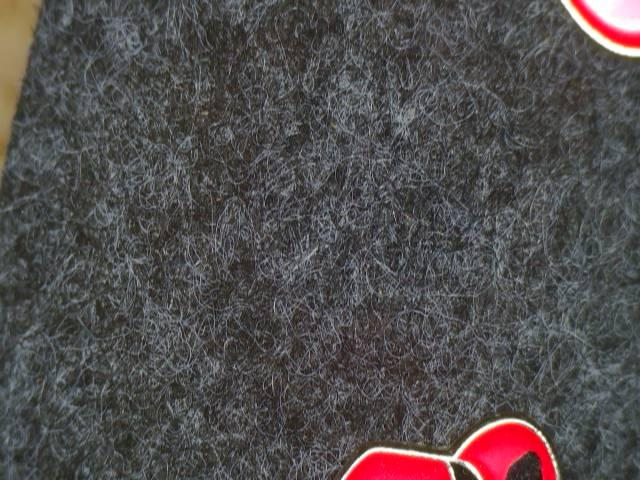Red-Hat: (314, 399, 565, 480)
Scratch: (495, 437, 549, 480)
